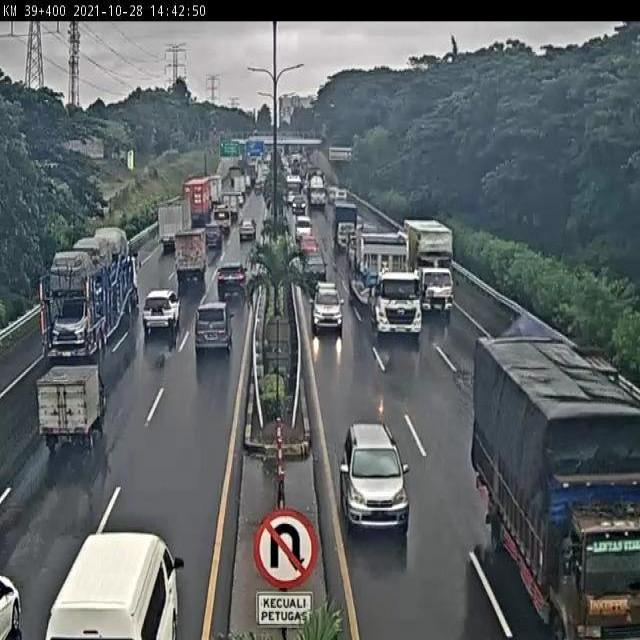big truck: (38, 220, 142, 349)
car: (340, 422, 410, 530), (0, 530, 46, 634), (312, 284, 344, 331), (198, 296, 232, 340), (142, 292, 179, 329), (303, 253, 328, 291), (221, 256, 249, 284), (298, 233, 320, 260)
small bus: (50, 530, 190, 640)
small truck: (39, 368, 108, 443)
truck-l-: (412, 225, 462, 318)
truck-m-: (175, 226, 209, 286), (336, 207, 360, 252)
truck-xl-: (348, 223, 424, 336)
